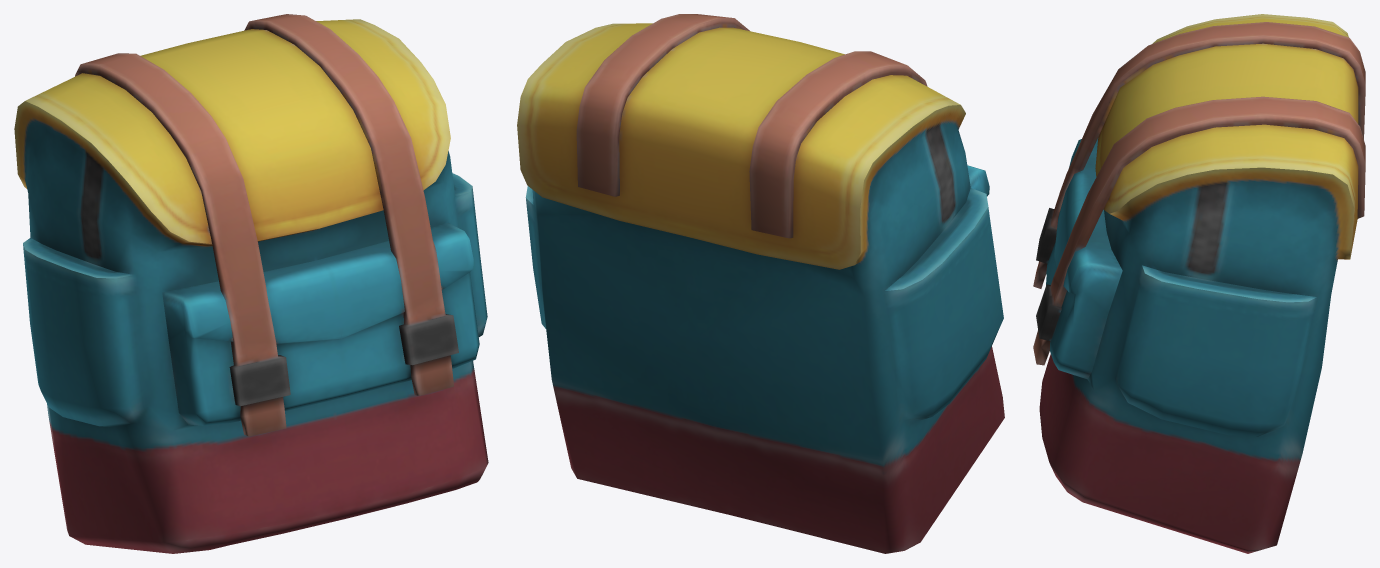
File: IG_Backpack_LV3.fbx
3 views of the same model, side by side, from view 1: azimuth 30°, elevation 25°; view 2: azimuth 150°, elevation 25°; view 3: azimuth 270°, elevation 25° (orthographic). The views are drawn at different scales.
Parts seen in each view (by area): view 1: Backpack_LV3; view 2: Backpack_LV3; view 3: Backpack_LV3.
Part boxes in pixels (box(x1,y1,x2,y2)): Backpack_LV3: box(14, 14, 488, 553); Backpack_LV3: box(517, 14, 1004, 553); Backpack_LV3: box(1033, 14, 1365, 553).
Size of the model in its own units: 0.4237 by 0.4679 by 0.3357.
